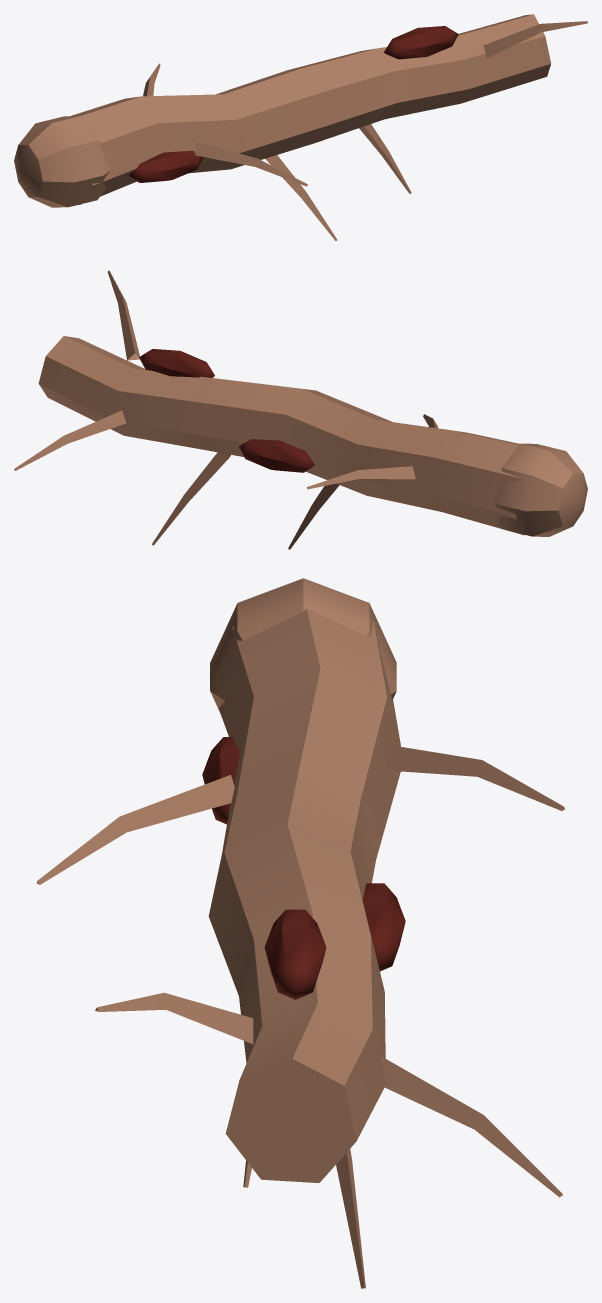
3 views of the same model, one above another, from view 1: azimuth 30°, elevation 25°; view 2: azimuth 150°, elevation 25°; view 3: azimuth 270°, elevation 25° (orthographic). The views are drawn at different scales.
Parts seen in each view (by area): view 1: teil0, teil2, teil1; view 2: teil0, teil2, teil1; view 3: teil0, teil2, teil1.
Part boxes in pixels (x1=…): teil0: x1=14, y1=14, x2=551, y2=207; teil2: x1=143, y1=21, x2=587, y2=240; teil1: x1=129, y1=26, x2=458, y2=182; teil0: x1=38, y1=336, x2=587, y2=536; teil2: x1=14, y1=270, x2=437, y2=549; teil1: x1=139, y1=349, x2=314, y2=472; teil0: x1=208, y1=578, x2=400, y2=1182; teil2: x1=36, y1=744, x2=564, y2=1288; teil1: x1=202, y1=737, x2=405, y2=999.
Bounding box in the file's own units: 0.0833 × 0.0298 × 0.0366.
